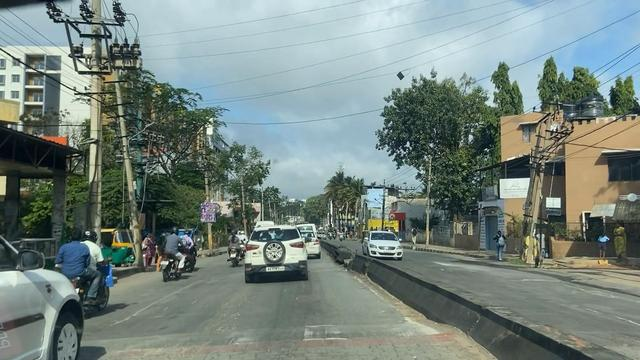LMV: (243, 225, 308, 276), (163, 231, 186, 277)
RoadDamages: (112, 277, 200, 326)
SpeedBump: (90, 320, 493, 359)
